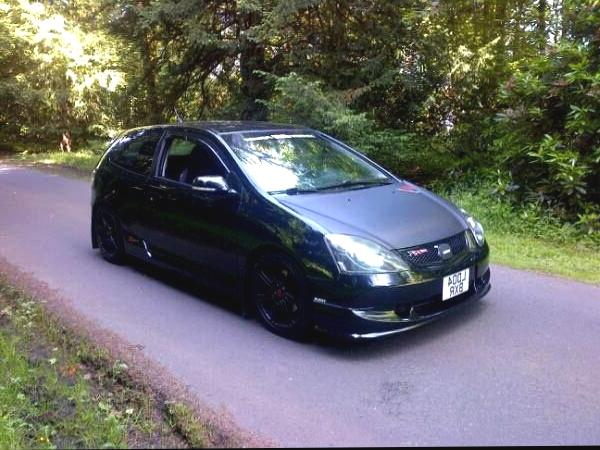License_Plate: (435, 264, 472, 305)
